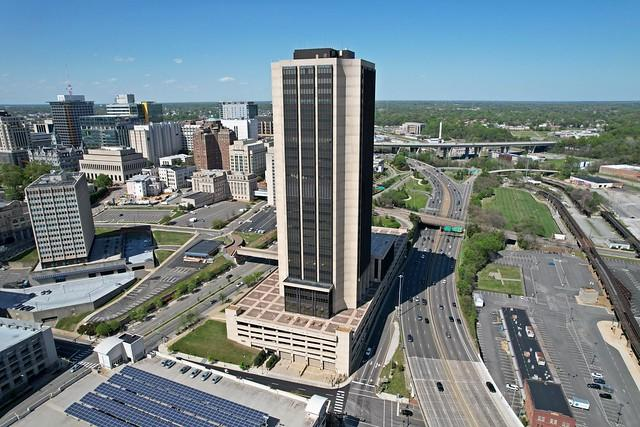building: (264, 42, 378, 310), (21, 166, 98, 268)
